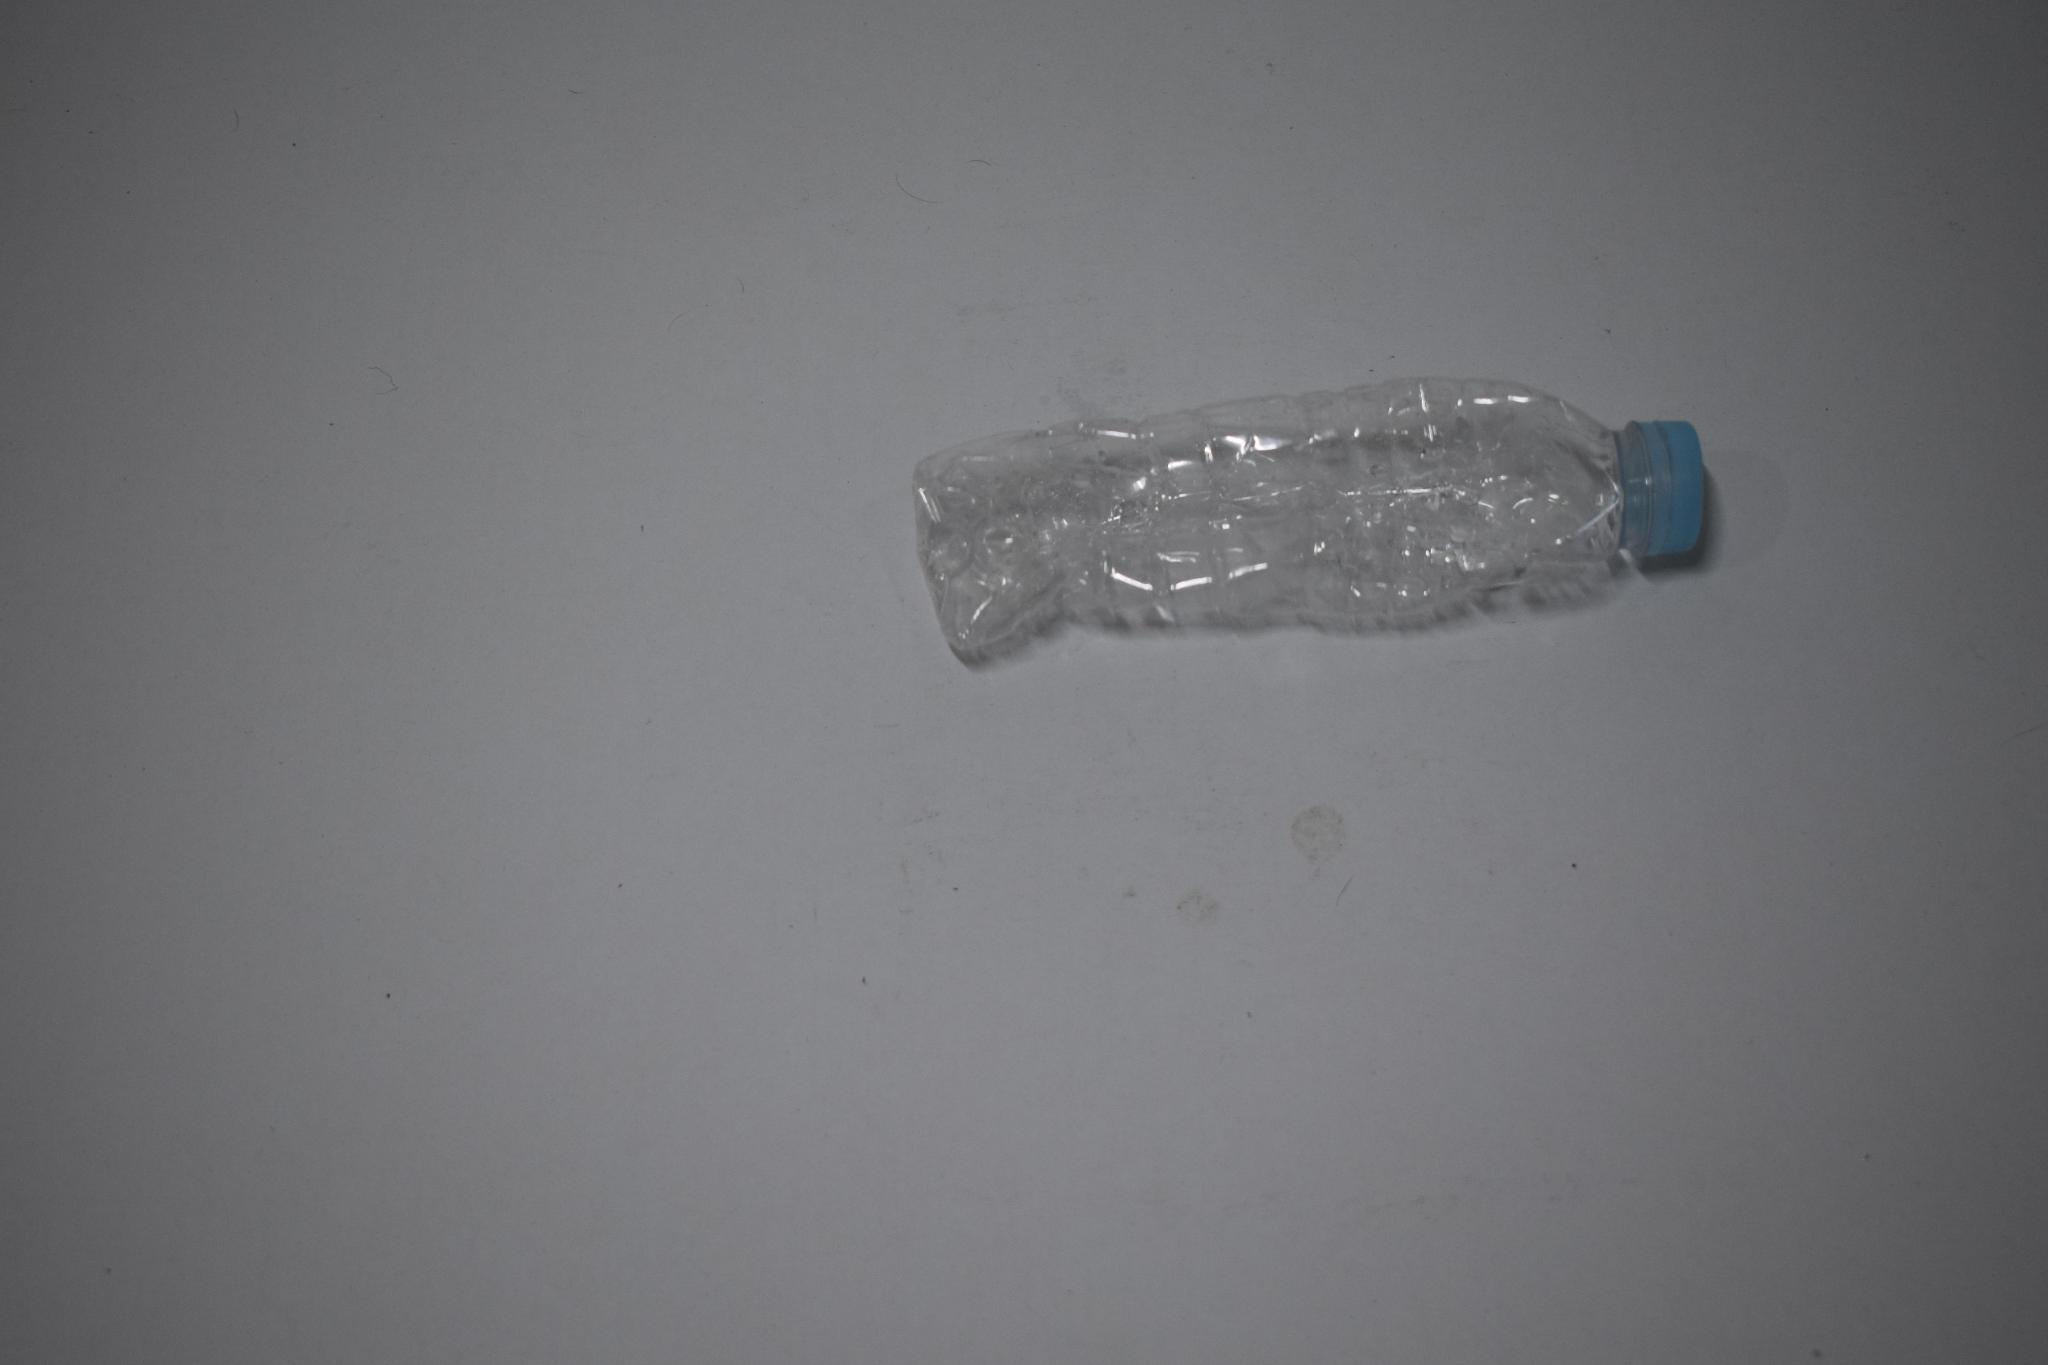bottle: (901, 378, 1723, 678)
